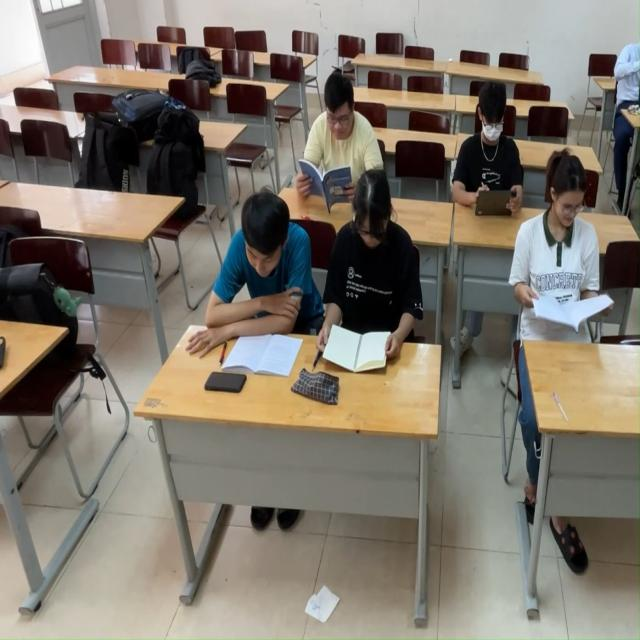read: (181, 189, 320, 373), (518, 143, 626, 377), (319, 180, 431, 380), (446, 71, 533, 220), (304, 77, 380, 213)
